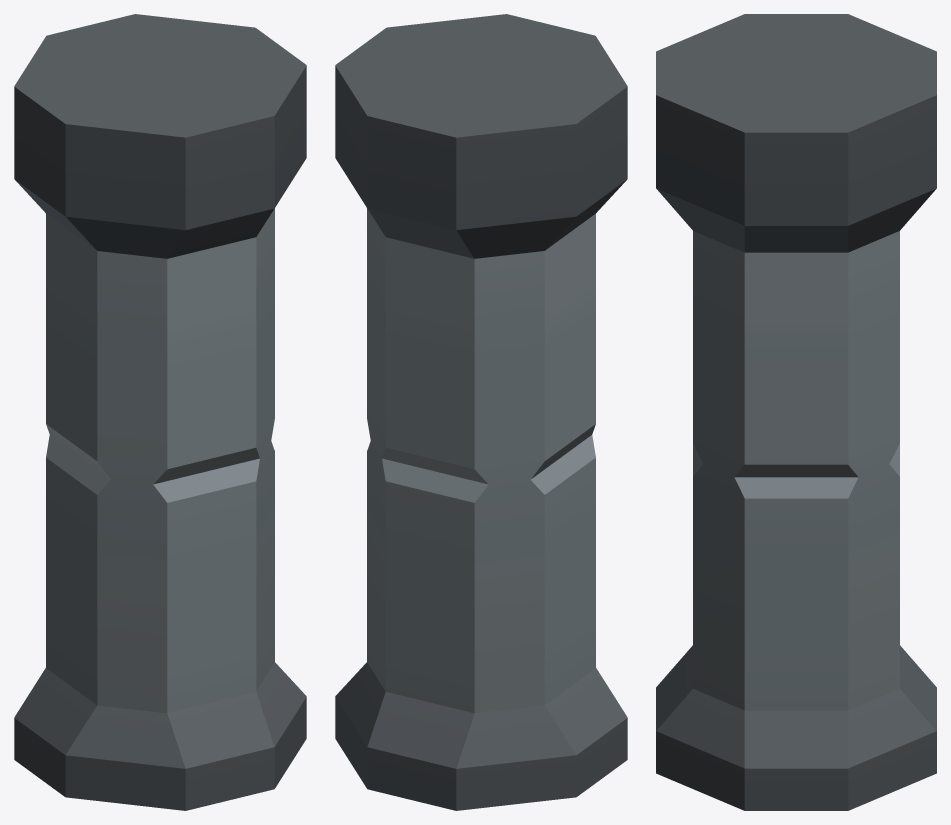
Rendered from pillar_gltf.glb.
3 renders of one model, left to right at view 1: azimuth 30°, elevation 25°; view 2: azimuth 150°, elevation 25°; view 3: azimuth 270°, elevation 25°, orthographic.
Visible parts, largest first — view 1: pillar; view 2: pillar; view 3: pillar.
Boxes of the visible parts, bbox=[...] form: pillar: bbox=[14, 14, 306, 810]; pillar: bbox=[335, 14, 627, 810]; pillar: bbox=[656, 14, 936, 810].
Bounding box in the file's own units: 1.5 × 4 × 1.5.
Materials: 1 (1 with a texture image).
